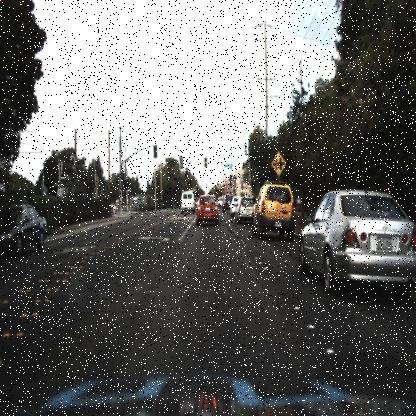car: (295, 183, 415, 306), (0, 203, 48, 257), (251, 181, 292, 241), (190, 185, 224, 230), (176, 186, 194, 216), (235, 194, 252, 224), (221, 193, 232, 216)
trafficLight: (203, 154, 208, 176), (183, 164, 189, 179)
